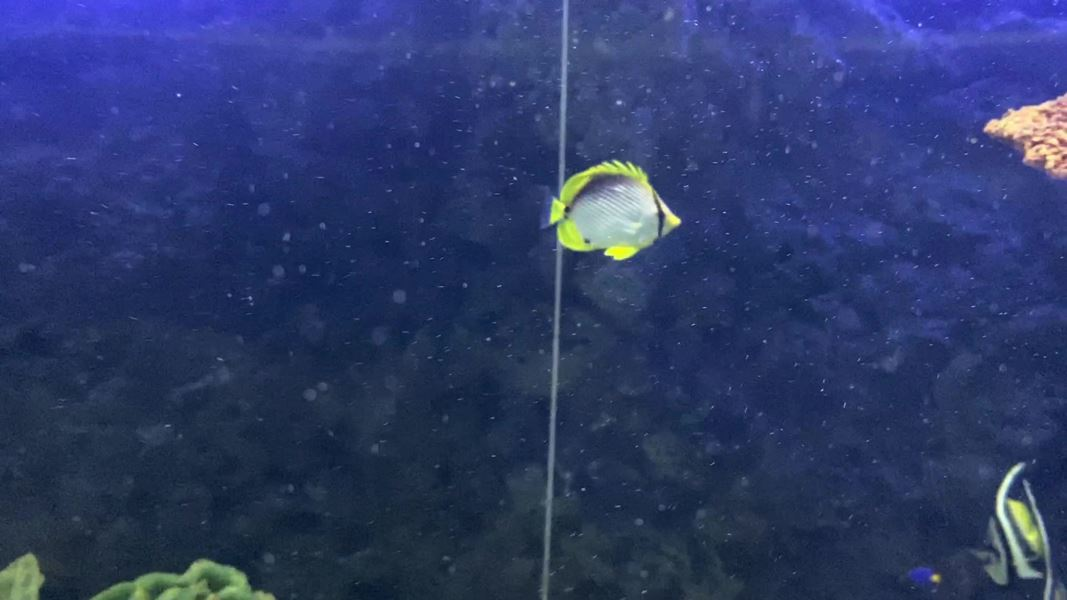Black-backed butterflyfish: (532, 152, 688, 271)
